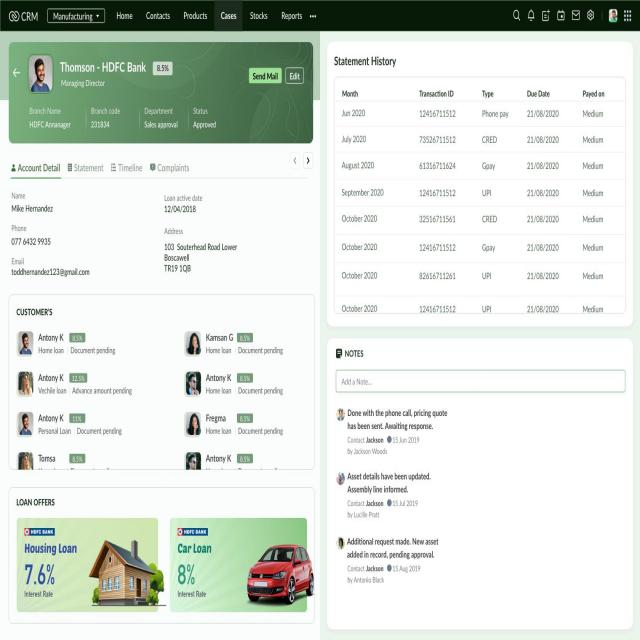button: (249, 68, 281, 84), (285, 67, 304, 85)
input: (336, 371, 625, 392)
